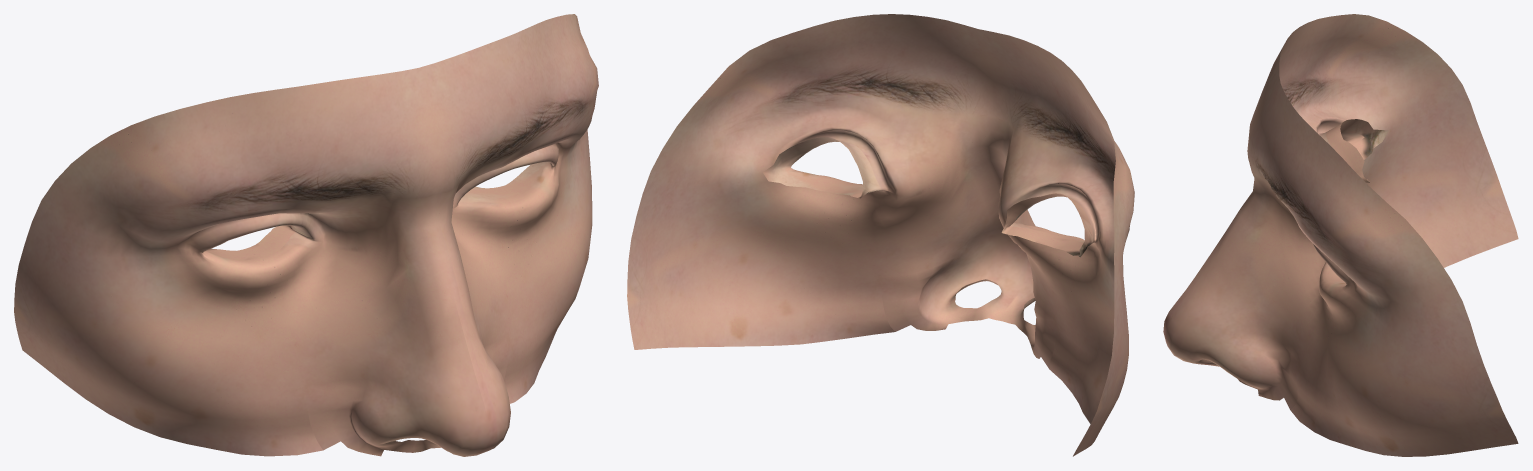
Rendered from bakedAnim 1.fbx.
The picture shows the model from 3 angles, left to right: view 1: azimuth 30°, elevation 25°; view 2: azimuth 150°, elevation 25°; view 3: azimuth 270°, elevation 25°; orthographic projection. The views are drawn at different scales.
Visible parts, largest first — view 1: face1; view 2: face1; view 3: face1.
Boxes of the visible parts, x1=… form: face1: x1=14, y1=14, x2=598, y2=456; face1: x1=627, y1=14, x2=1134, y2=456; face1: x1=1163, y1=14, x2=1518, y2=456.
Bounding box in the file's own units: 54.16 × 35.13 × 36.18.
